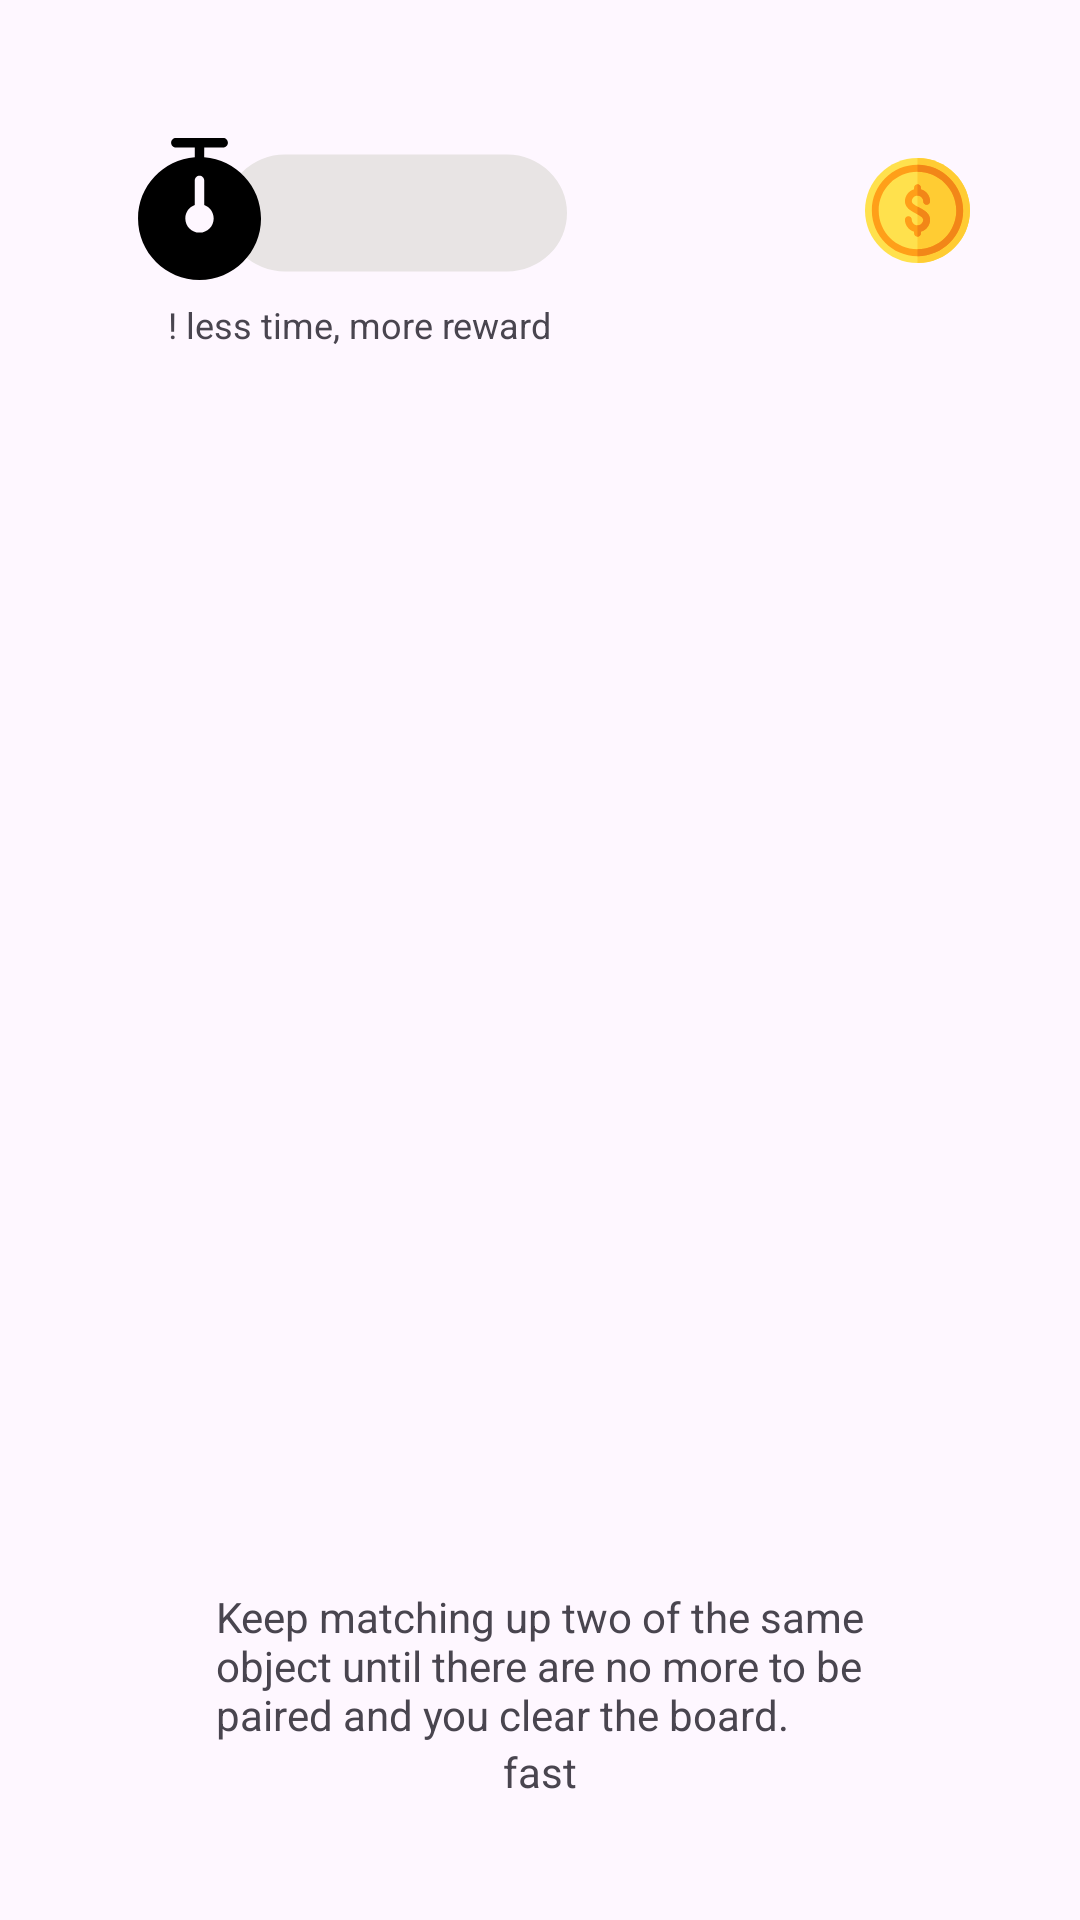

Icons on this 1080*1920 Android screen, each with the point to tap as (x,y):
coin: (917,210)
